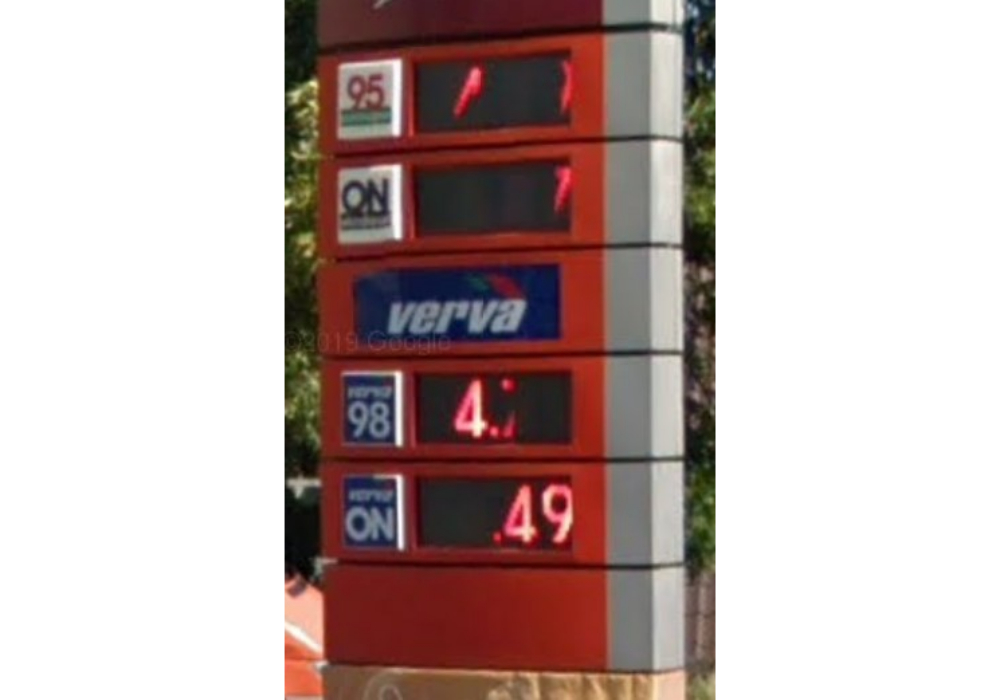ON: (332, 163, 404, 245), (337, 471, 406, 554)
PB95: (333, 56, 403, 143)
PB98: (340, 366, 404, 450)
